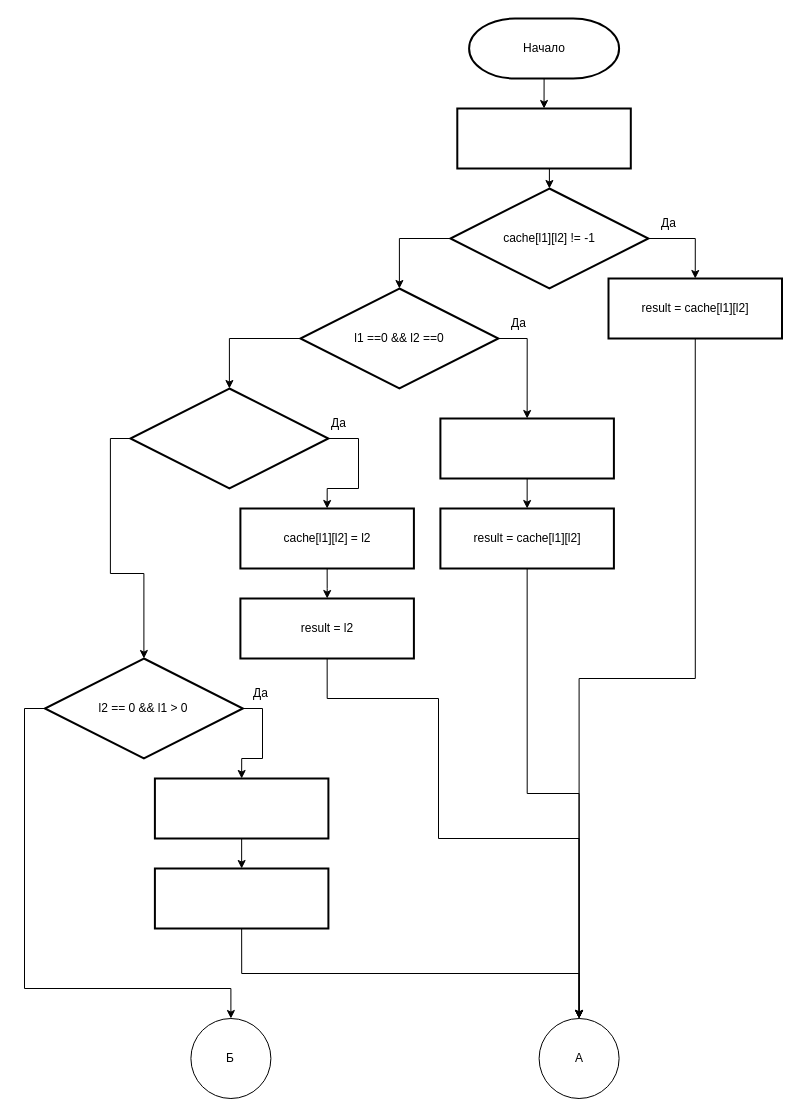
Some shapes in this 800 by 1116 pixel diagram are drawn without their labels. Each missing label, with the box of its shape:
cache[l1][l2] = 0: (439, 417, 614, 479)
cache[l1][l2] = l1: (153, 777, 329, 839)
l1 ==0 && l2 > 0: (129, 387, 329, 489)
result = l1: (153, 867, 329, 929)
s1, s2, l1, l2, cache result = -1;: (456, 107, 631, 169)
